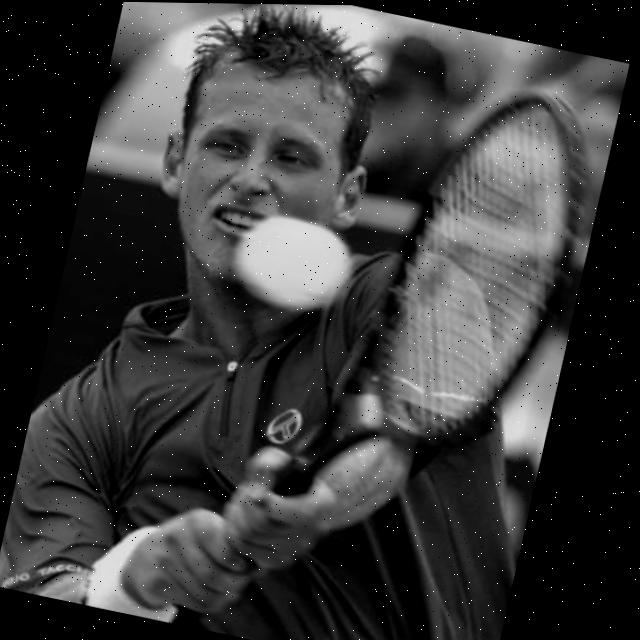face: (136, 3, 395, 317)
